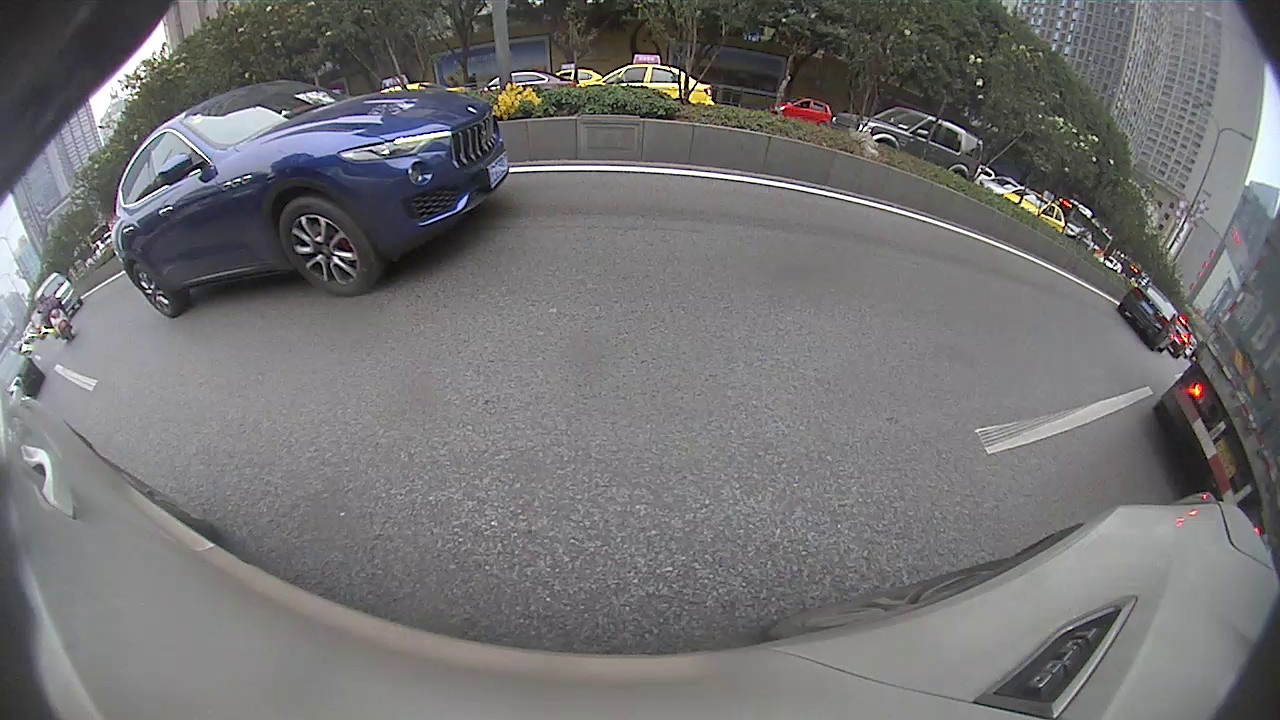car: (1, 206, 360, 496), (314, 175, 438, 243), (668, 146, 744, 199), (488, 158, 566, 204)
front: (300, 239, 349, 292), (420, 196, 435, 220)
person: (858, 150, 872, 195), (806, 148, 818, 184)
rear: (35, 381, 128, 493), (369, 212, 386, 238), (541, 177, 554, 199)
